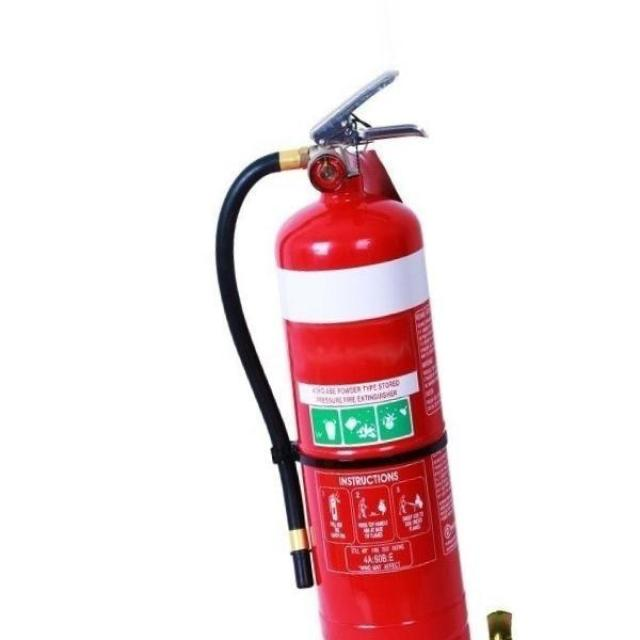fire_extinguisher: (207, 59, 492, 639)
